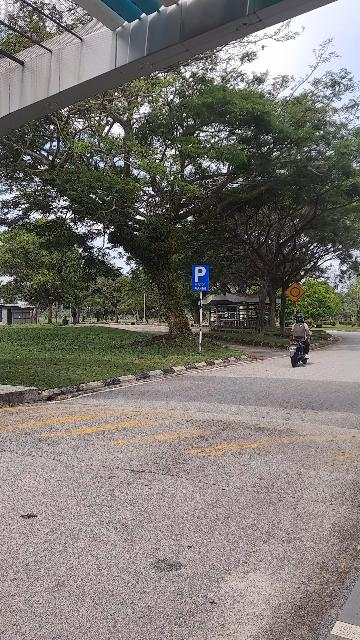motorcycle: (289, 314, 322, 370)
